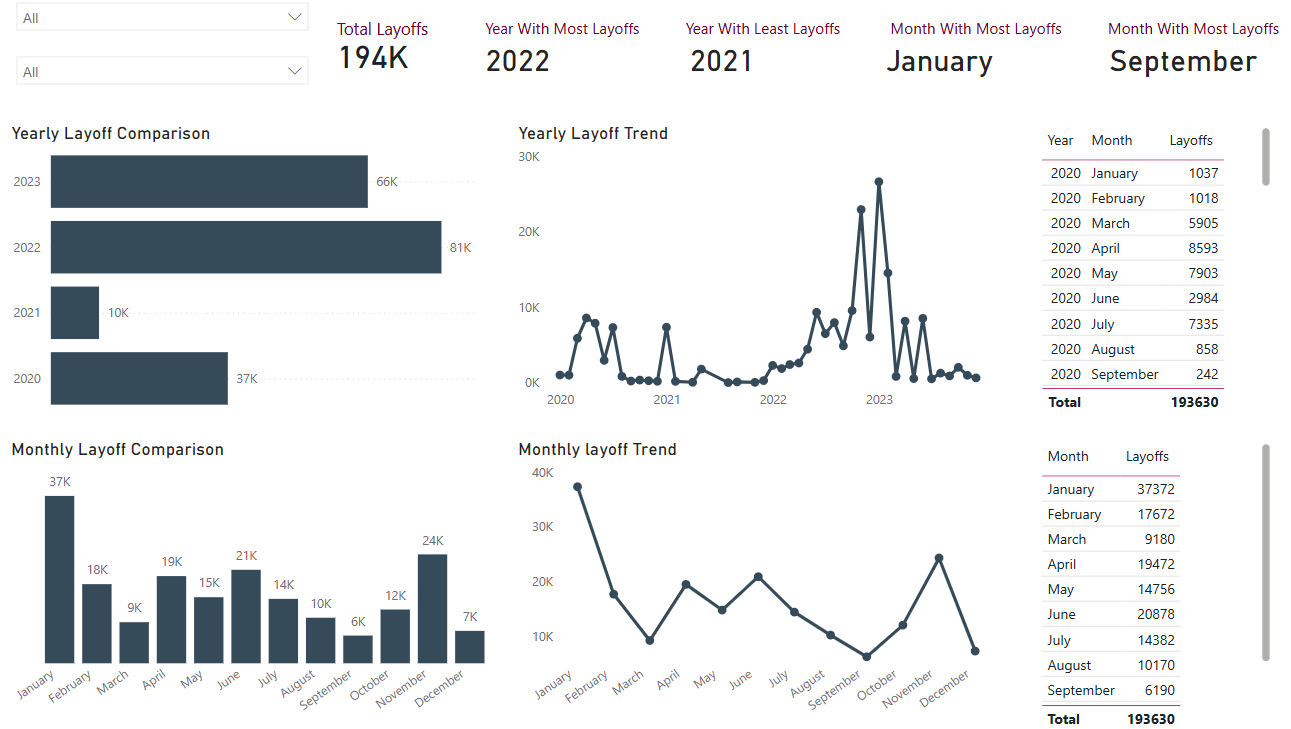

This screenshot's page, from the dashboard's own definition file:
{"tool":"powerbi","page":{"name":"Page 0","canvas":[1280,720],"ordinal":0},"visuals":[{"type":"lineChart","title":"Yearly Layoff Trend","fields":{"Y":["Sum(layoffs_final.total_laid_off)"],"Category":["layoffs_final.date.Variation.Date Hierarchy.Year","layoffs_final.date.Variation.Date Hierarchy.Month"]},"box":[515.5,132.3,462,284],"z":0},{"type":"slicer","fields":{"Values":["layoffs_final.date.Variation.Date Hierarchy.Year","layoffs_final.date.Variation.Date Hierarchy.Quarter","layoffs_final.date.Variation.Date Hierarchy.Month","layoffs_final.date.Variation.Date Hierarchy.Day"]},"box":[30.2,7.8,299.6,51.6],"z":1000},{"type":"slicer","fields":{"Values":["layoffs_final.industry"]},"box":[30.2,59.3,299.6,51.6],"z":2000},{"type":"tableEx","fields":{"Values":["layoffs_final.date.Variation.Date Hierarchy.Year","layoffs_final.date.Variation.Date Hierarchy.Month","Sum(layoffs_final.total_laid_off)"]},"box":[1017.3,132.3,230.1,283.8],"z":3000},{"type":"barChart","title":"Yearly Layoff Comparison ","fields":{"Category":["layoffs_final.date.Variation.Date Hierarchy.Year"],"Y":["Sum(layoffs_final.total_laid_off)"]},"box":[30.2,132.3,454.2,284],"z":4000},{"type":"cardVisual","fields":{"Data":["Sum(layoffs_final.total_laid_off)"]},"box":[329.7,10.7,143,96.3],"z":5000},{"type":"columnChart","title":"Monthly Layoff Comparison ","fields":{"Category":["layoffs_final.date.Variation.Date Hierarchy.Month"],"Y":["Sum(layoffs_final.total_laid_off)"]},"box":[30.2,435.7,478.5,284],"z":6000},{"type":"tableEx","fields":{"Values":["layoffs_final.date.Variation.Date Hierarchy.Month","Sum(layoffs_final.total_laid_off)"]},"box":[1017.3,435.3,230.1,284.8],"z":7000},{"type":"lineChart","title":"Monthly layoff Trend","fields":{"Y":["Sum(layoffs_final.total_laid_off)"],"Category":["layoffs_final.date.Variation.Date Hierarchy.Month"]},"box":[515.5,435.7,462,284],"z":8000},{"type":"textbox","box":[484.4,27.2,785.9,79.8],"z":8001},{"type":"textbox","box":[484.4,51.6,779.1,48.6],"z":8002}]}

Visuals, with their boxes in screenshot pixels (x1, y1, x2, y2), scaled from the page's 1280x720 canvas onto the 1291x729 screenshot:
"Yearly Layoff Trend" lineChart: {"x1": 520, "y1": 134, "x2": 986, "y2": 422}
slicer - layoffs_final.date.Variation.Date Hierarchy.Year x layoffs_final.date.Variation.Date Hierarchy.Quarter: {"x1": 30, "y1": 8, "x2": 333, "y2": 60}
slicer - layoffs_final.industry: {"x1": 30, "y1": 60, "x2": 333, "y2": 112}
tableEx - layoffs_final.date.Variation.Date Hierarchy.Year x layoffs_final.date.Variation.Date Hierarchy.Month: {"x1": 1026, "y1": 134, "x2": 1258, "y2": 421}
"Yearly Layoff Comparison " barChart: {"x1": 30, "y1": 134, "x2": 489, "y2": 422}
cardVisual - Sum(layoffs_final.total_laid_off): {"x1": 333, "y1": 11, "x2": 477, "y2": 108}
"Monthly Layoff Comparison " columnChart: {"x1": 30, "y1": 441, "x2": 513, "y2": 728}
tableEx - layoffs_final.date.Variation.Date Hierarchy.Month x Sum(layoffs_final.total_laid_off): {"x1": 1026, "y1": 441, "x2": 1258, "y2": 728}
"Monthly layoff Trend" lineChart: {"x1": 520, "y1": 441, "x2": 986, "y2": 728}
textbox: {"x1": 489, "y1": 28, "x2": 1281, "y2": 108}
textbox: {"x1": 489, "y1": 52, "x2": 1274, "y2": 101}
